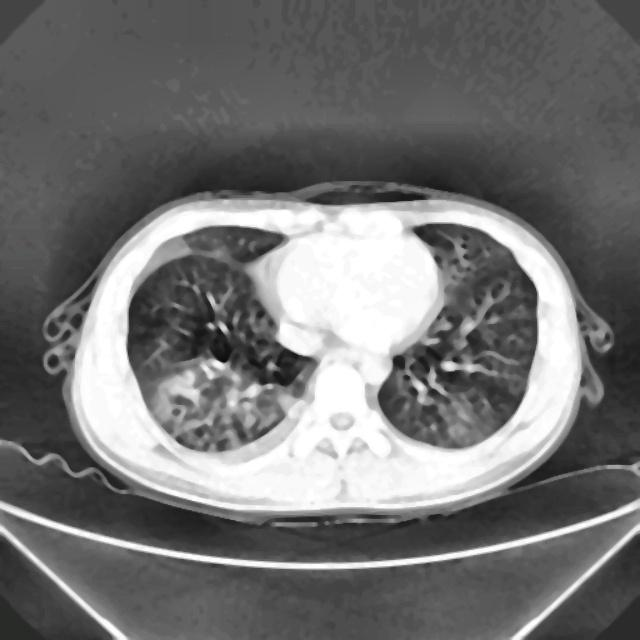covid: (46, 180, 613, 527)
